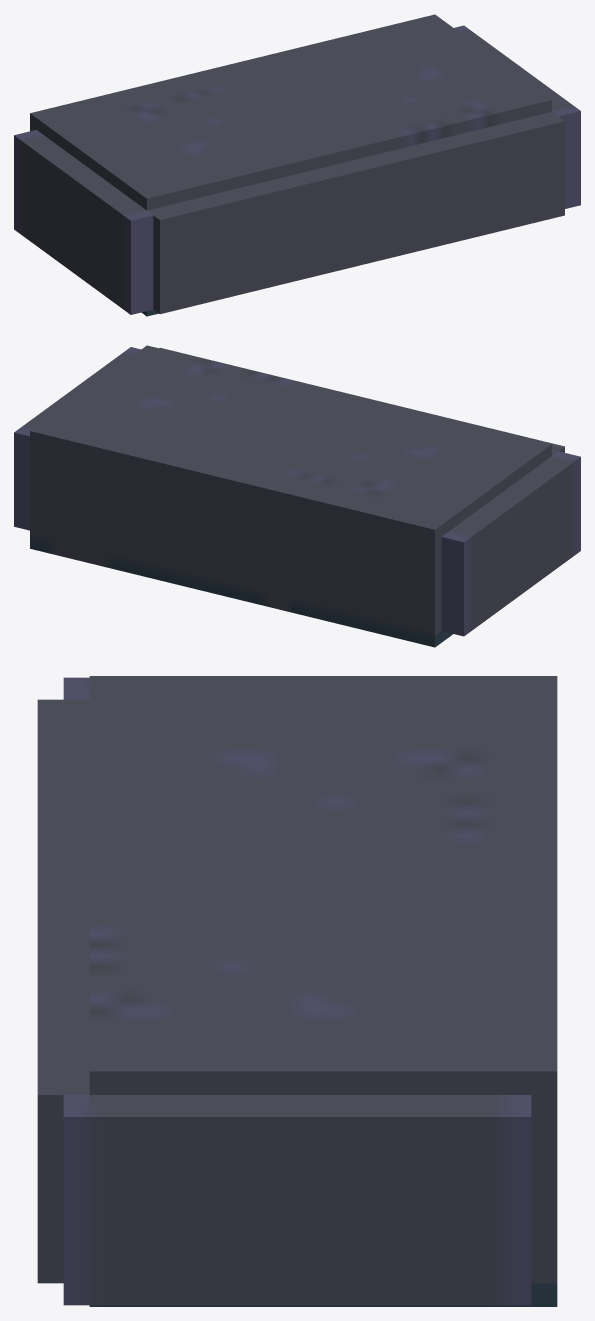
File: BuildingBlock-25 1.fbx
The picture shows the model from 3 angles, top to bottom: view 1: azimuth 30°, elevation 25°; view 2: azimuth 150°, elevation 25°; view 3: azimuth 270°, elevation 25°; orthographic projection. The views are drawn at different scales.
Parts seen in each view (by area): view 1: BuildingBlock_25_1; view 2: BuildingBlock_25_1; view 3: BuildingBlock_25_1.
Part boxes in pixels (<box>): BuildingBlock_25_1: <box>14,14,580,316</box>; BuildingBlock_25_1: <box>14,345,580,647</box>; BuildingBlock_25_1: <box>37,676,557,1306</box>.
Size of the model in its own units: 400 by 100 by 200.
1 material, 1 textured.
